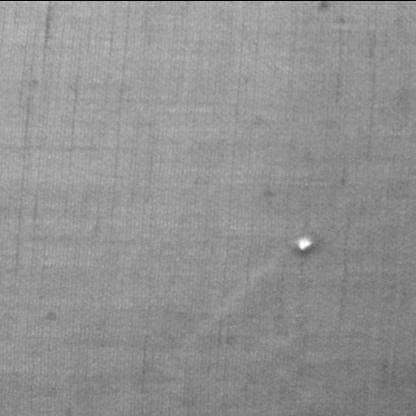hole: (291, 232, 320, 252)
